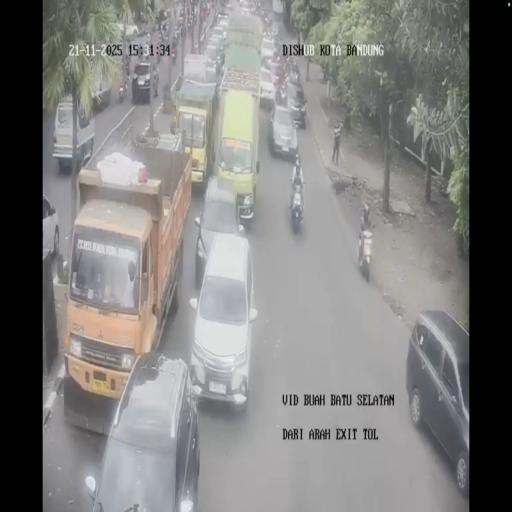car: (406, 312, 469, 499), (194, 175, 246, 282), (53, 98, 95, 173), (268, 102, 298, 160), (42, 192, 58, 262), (204, 31, 226, 76), (132, 60, 153, 104), (287, 71, 305, 108), (259, 67, 275, 105), (158, 16, 174, 44), (260, 37, 274, 66), (135, 20, 149, 37), (216, 11, 229, 29), (240, 0, 254, 14), (272, 21, 280, 42)
motorcycle: (358, 226, 372, 282), (289, 193, 303, 233), (274, 79, 288, 105), (118, 70, 128, 102), (259, 8, 273, 29), (152, 66, 159, 98), (171, 41, 177, 64), (156, 43, 162, 65), (174, 26, 181, 44), (180, 21, 186, 40)
truck: (64, 136, 190, 419), (172, 66, 220, 194), (222, 10, 264, 82), (88, 65, 110, 111), (272, 0, 284, 18)
